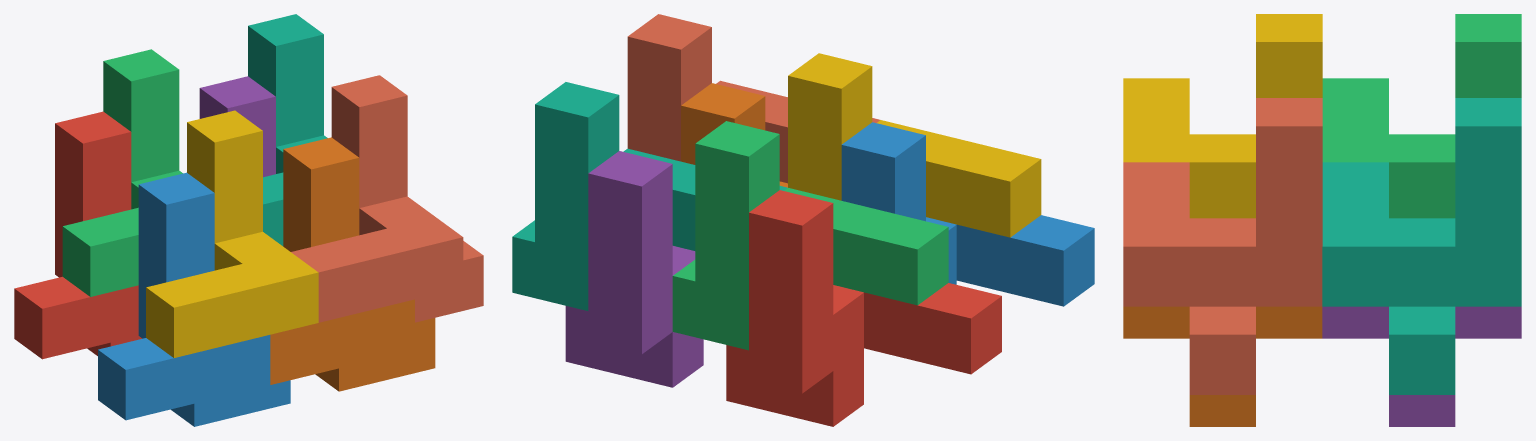
File: tiling.obj
3 renders of one model, left to right at view 1: azimuth 30°, elevation 25°; view 2: azimuth 150°, elevation 25°; view 3: azimuth 270°, elevation 25°, orthographic. The views are drawn at different scales.
Visible parts, largest first — view 1: copy_1_domain_8, copy_1_domain_4, copy_1_domain_2, copy_1_domain_6, copy_1_domain_1, copy_1_domain_3, copy_1_domain_7, copy_1_domain_5; view 2: copy_1_domain_1, copy_1_domain_3, copy_1_domain_5, copy_1_domain_4, copy_1_domain_7, copy_1_domain_2, copy_1_domain_8, copy_1_domain_6; view 3: copy_1_domain_7, copy_1_domain_8, copy_1_domain_3, copy_1_domain_4, copy_1_domain_5, copy_1_domain_6.
Boxes of the visible parts, <box> form: copy_1_domain_8: <box>291,75,483,322</box>; copy_1_domain_4: <box>146,110,318,357</box>; copy_1_domain_2: <box>98,172,290,426</box>; copy_1_domain_6: <box>270,137,435,391</box>; copy_1_domain_1: <box>14,111,141,359</box>; copy_1_domain_3: <box>62,49,182,296</box>; copy_1_domain_7: <box>248,14,327,246</box>; copy_1_domain_5: <box>199,76,275,177</box>; copy_1_domain_1: <box>726,190,1001,426</box>; copy_1_domain_3: <box>672,121,948,350</box>; copy_1_domain_5: <box>565,151,703,387</box>; copy_1_domain_4: <box>788,53,1041,237</box>; copy_1_domain_7: <box>512,82,787,310</box>; copy_1_domain_2: <box>841,122,1094,306</box>; copy_1_domain_8: <box>627,14,879,183</box>; copy_1_domain_6: <box>681,83,787,187</box>; copy_1_domain_7: <box>1322,98,1521,394</box>; copy_1_domain_8: <box>1123,98,1322,394</box>; copy_1_domain_3: <box>1322,14,1521,218</box>; copy_1_domain_4: <box>1123,14,1322,218</box>; copy_1_domain_5: <box>1322,306,1521,426</box>; copy_1_domain_6: <box>1123,306,1322,426</box>.
Bounding box in the file's own units: 8 × 5 × 6.
